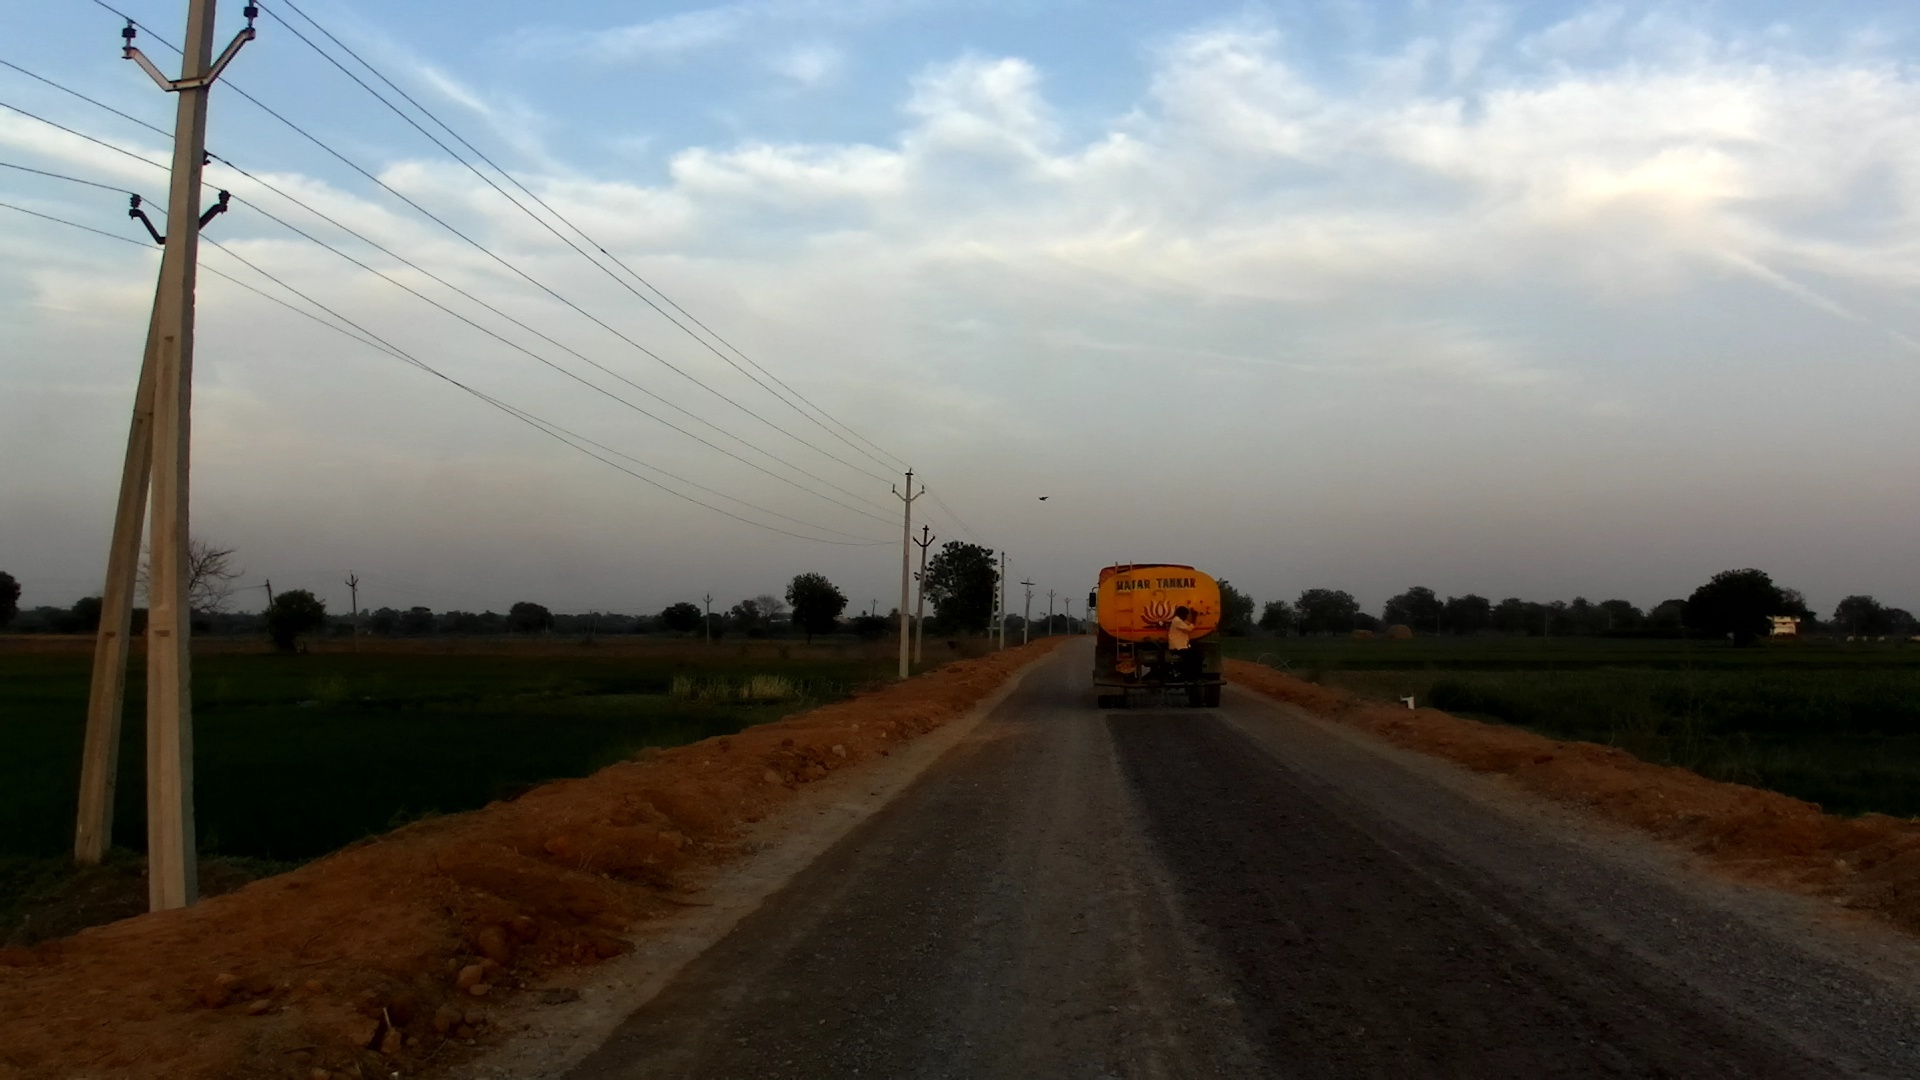rider: (1160, 601, 1204, 688)
truck: (1084, 562, 1227, 711)
